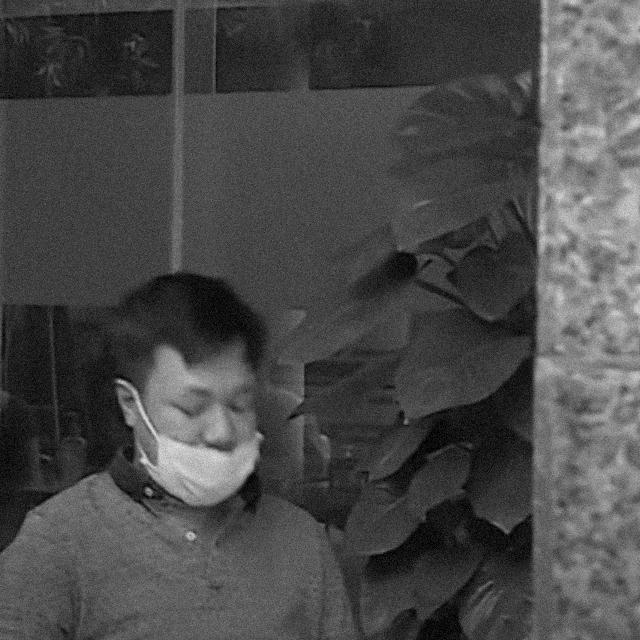hairnet: (153, 378, 266, 502)
